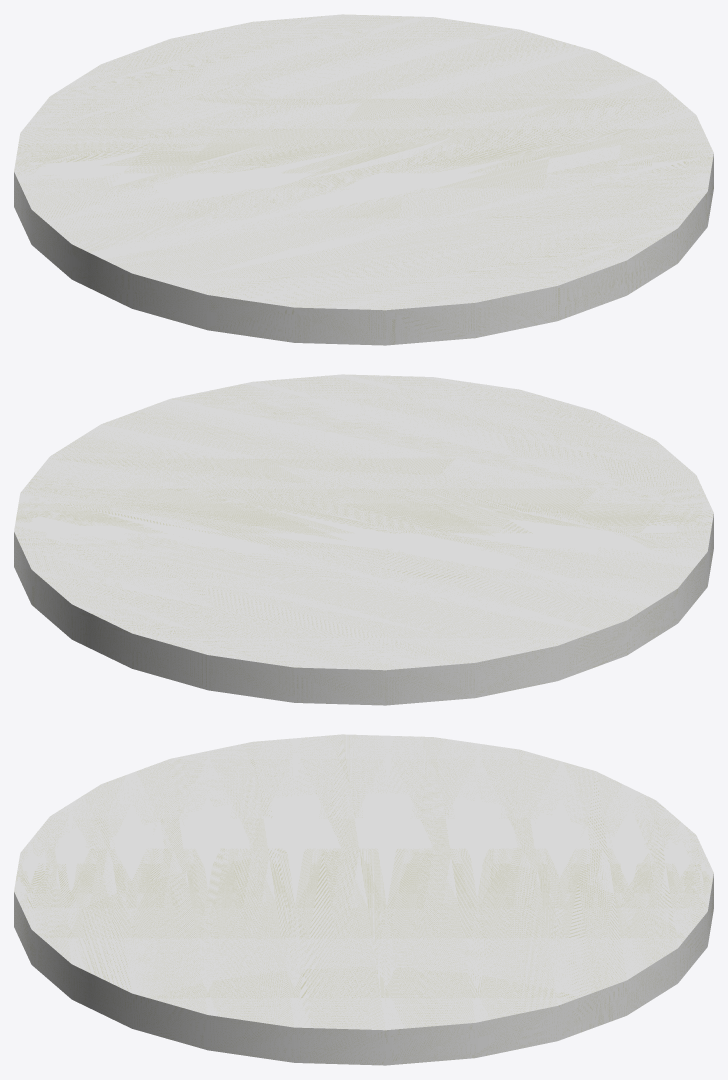
Rendered from original-4.obj.
3 renders of one model, top to bottom at view 1: azimuth 30°, elevation 25°; view 2: azimuth 150°, elevation 25°; view 3: azimuth 270°, elevation 25°, orthographic.
Parts seen in each view (by area): view 1: mesh4/mesh4-geometry#mesh4-geometry; view 2: mesh4/mesh4-geometry#mesh4-geometry; view 3: mesh4/mesh4-geometry#mesh4-geometry.
Part boxes in pixels (x1,y1,x2,y2): mesh4/mesh4-geometry#mesh4-geometry: (14,14,713,345); mesh4/mesh4-geometry#mesh4-geometry: (14,374,713,705); mesh4/mesh4-geometry#mesh4-geometry: (14,734,713,1065).
Size of the model in its own units: 0.039 by 0.00217 by 0.039.
